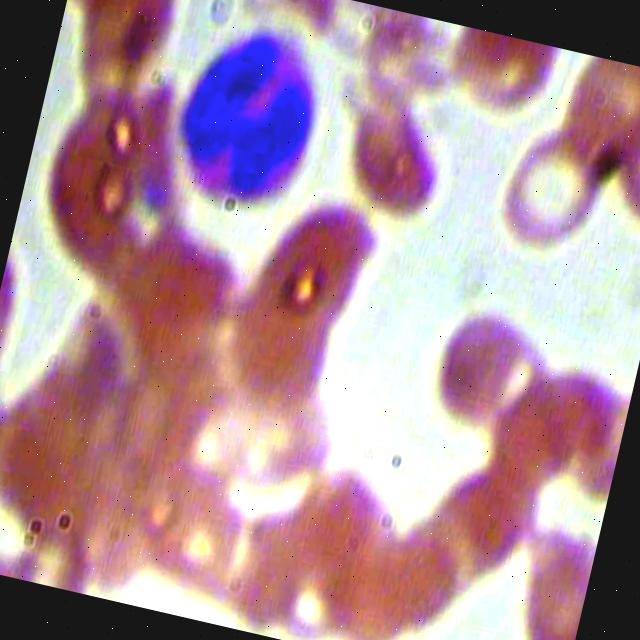WBC: (149, 2, 343, 222)
